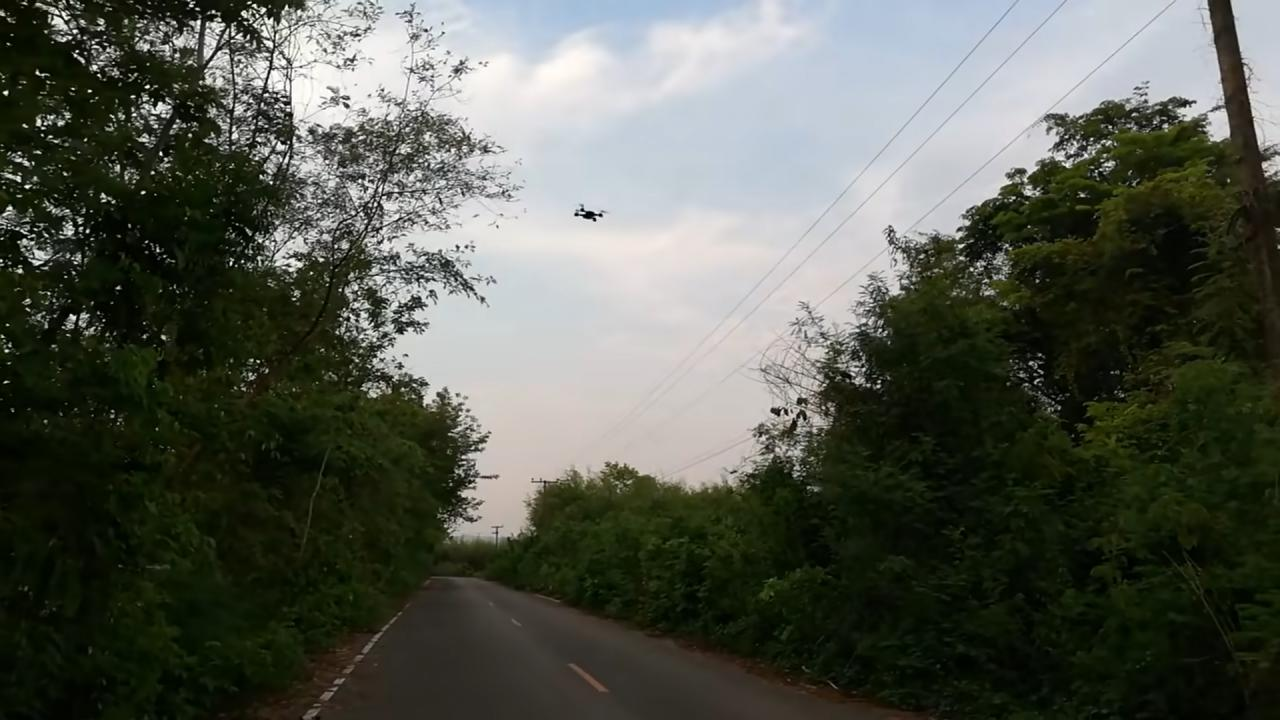Drone: (567, 195, 611, 231)
